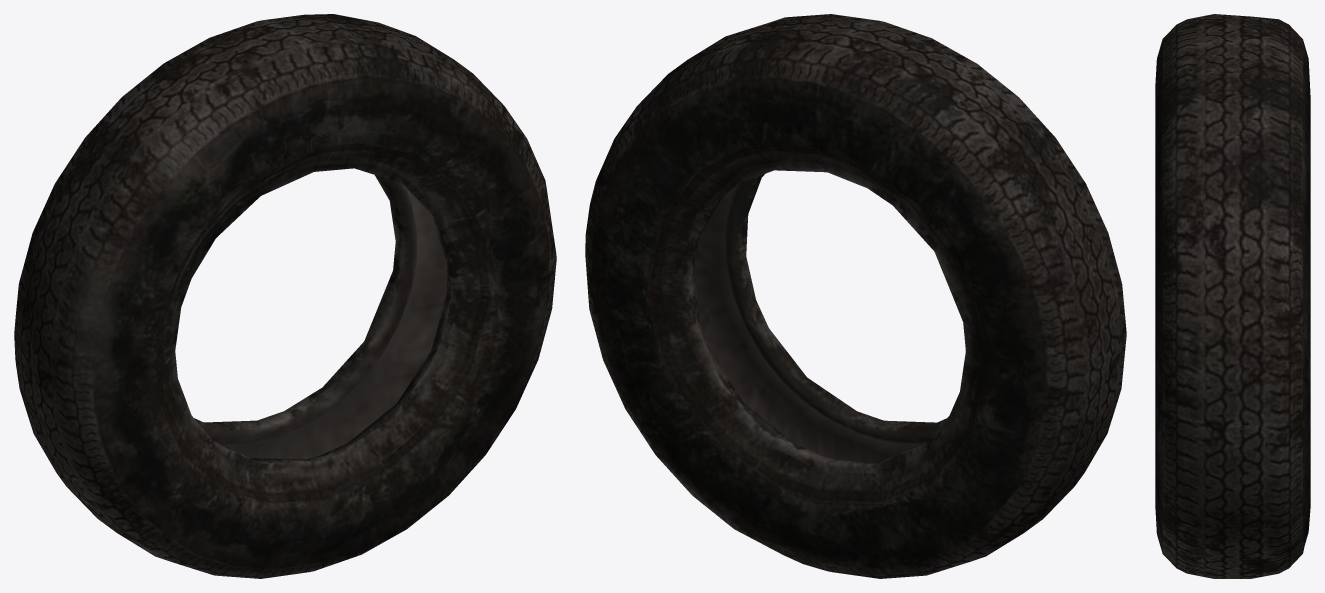
Rendered from old_tyre.glb.
3 renders of one model, left to right at view 1: azimuth 30°, elevation 25°; view 2: azimuth 150°, elevation 25°; view 3: azimuth 270°, elevation 25°, orthographic. The views are drawn at different scales.
Visible parts, largest first — view 1: old_tyre; view 2: old_tyre; view 3: old_tyre.
Part boxes in pixels (bbox=[...]): old_tyre: bbox=[14, 14, 556, 578]; old_tyre: bbox=[585, 14, 1126, 578]; old_tyre: bbox=[1155, 14, 1310, 578].
Bounding box in the file's own units: 0.6 × 0.6 × 0.165.
Materials: 1 (1 with a texture image).
